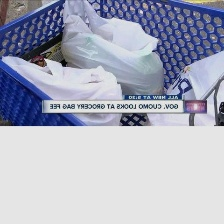plastic_bag: (58, 0, 171, 106), (0, 52, 128, 126), (140, 43, 224, 126)
